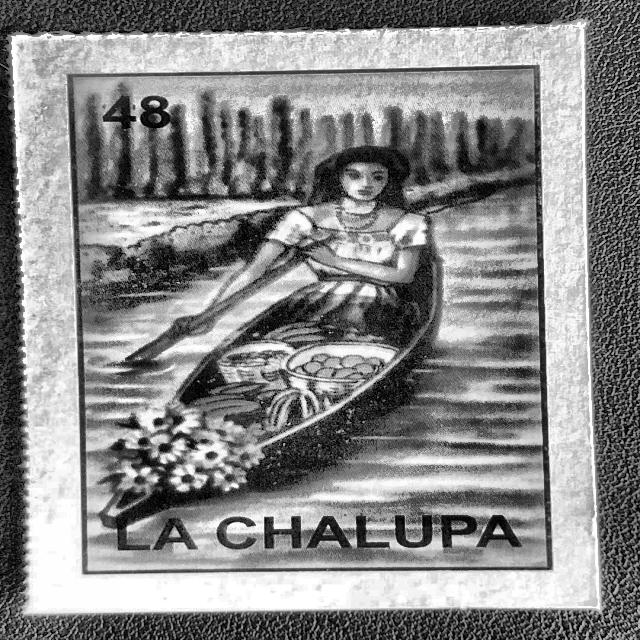El Chalupa: (51, 56, 566, 590)
